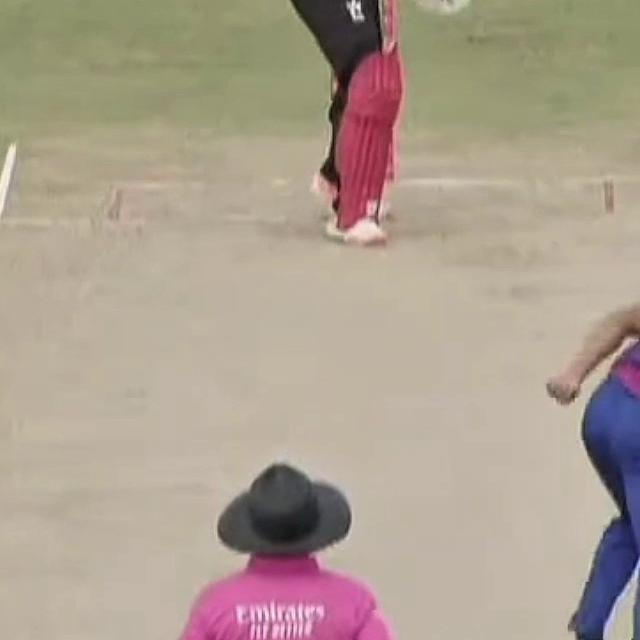umpire: (133, 460, 503, 640), (125, 450, 450, 640)
